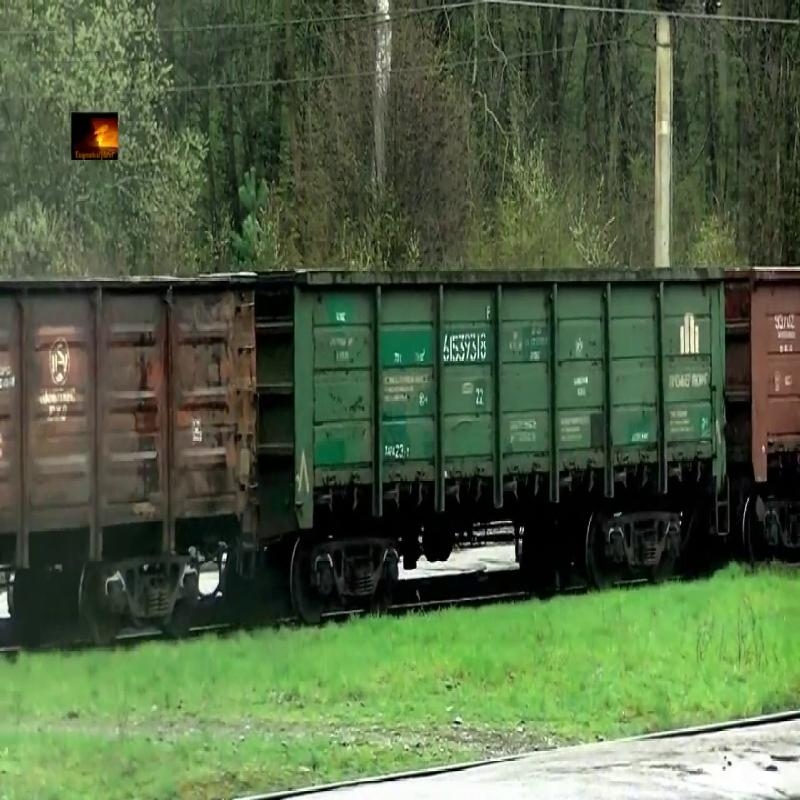train: (255, 266, 728, 536), (4, 268, 257, 567), (729, 265, 800, 490)
